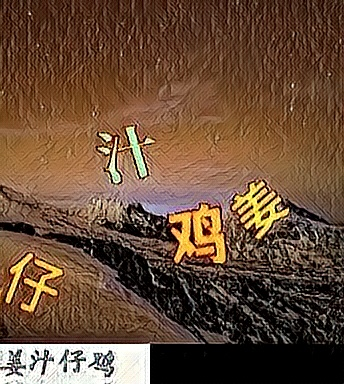BCA6: (167, 200, 231, 266)
BDAA: (229, 172, 293, 238)
D6AD: (95, 122, 159, 188)
D7D0: (4, 249, 68, 315)
